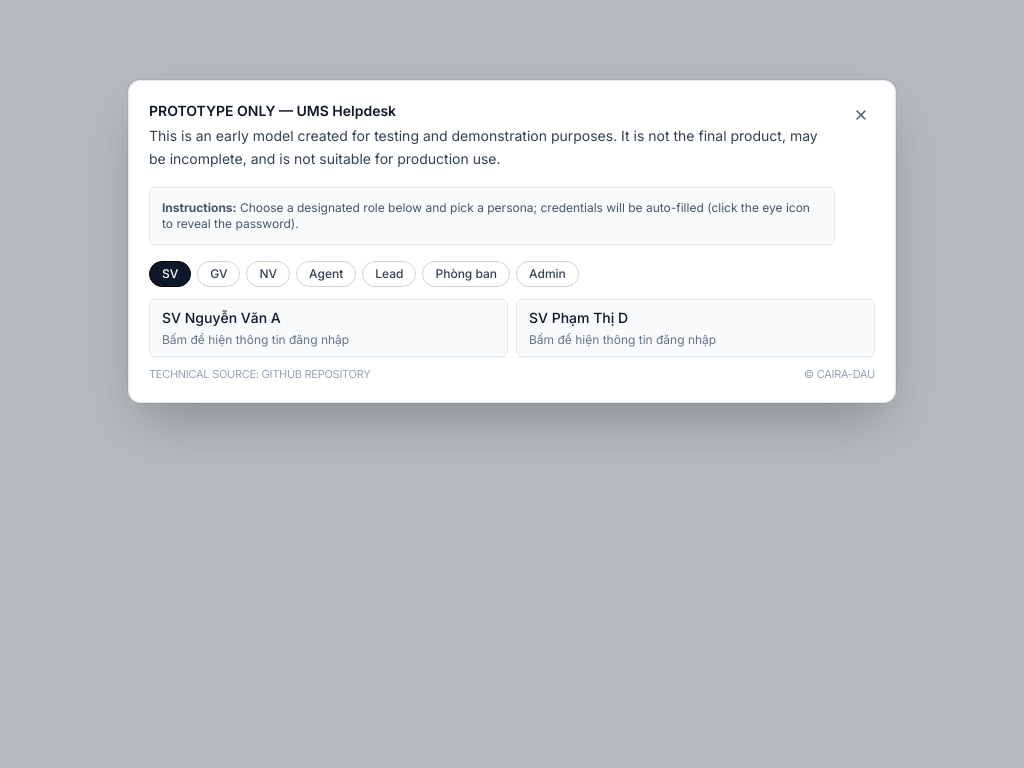
Scenario: CredentialHelperNote — admin-created personas surface (FE-S15) › M31-FE-S15-S6: created personas are scoped to their role tab (not visible elsewhere)
Expected: the text "Admin Mới Tạo" is not shown
Click the tab with aria-label "Vai trò Quản trị viên".
click(548, 274)  # box [516,260,579,286]
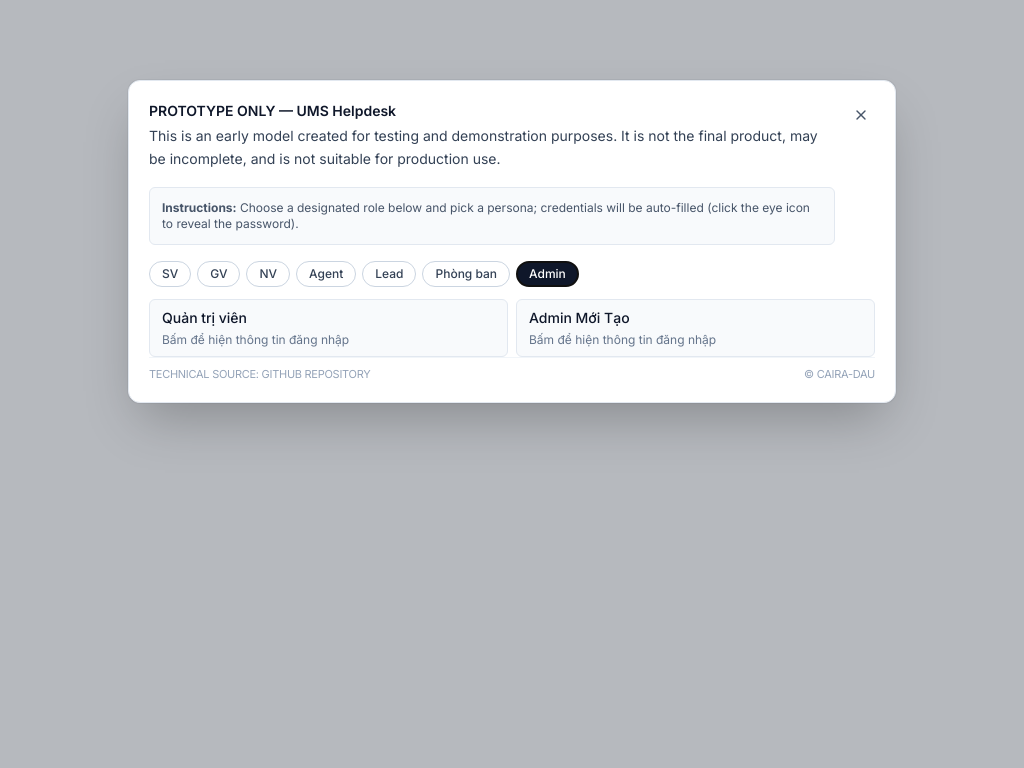
Now the text "Admin Mới Tạo" is shown, box [529,308,630,328]
